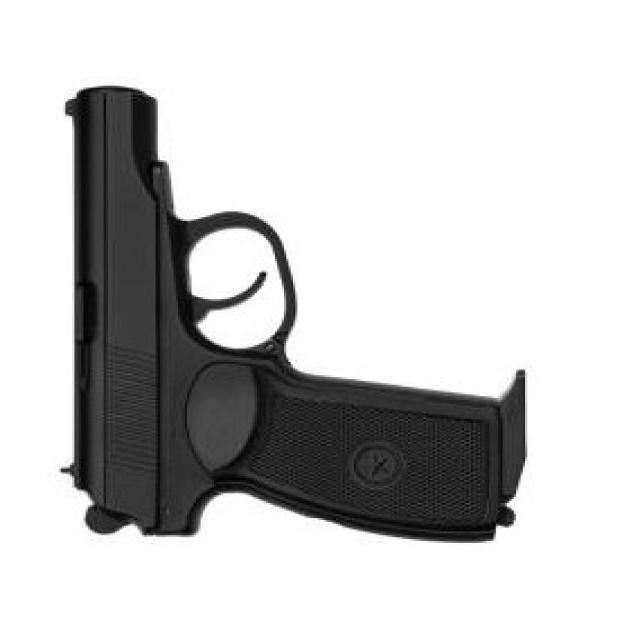pistol: (59, 82, 539, 557)
